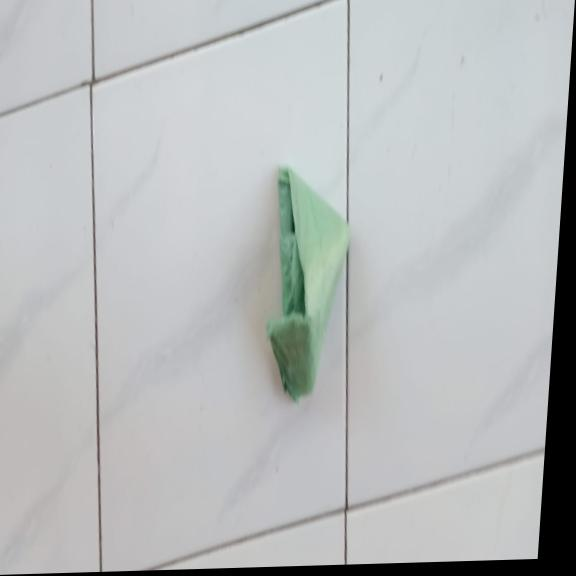Plastik: (259, 162, 356, 408)
